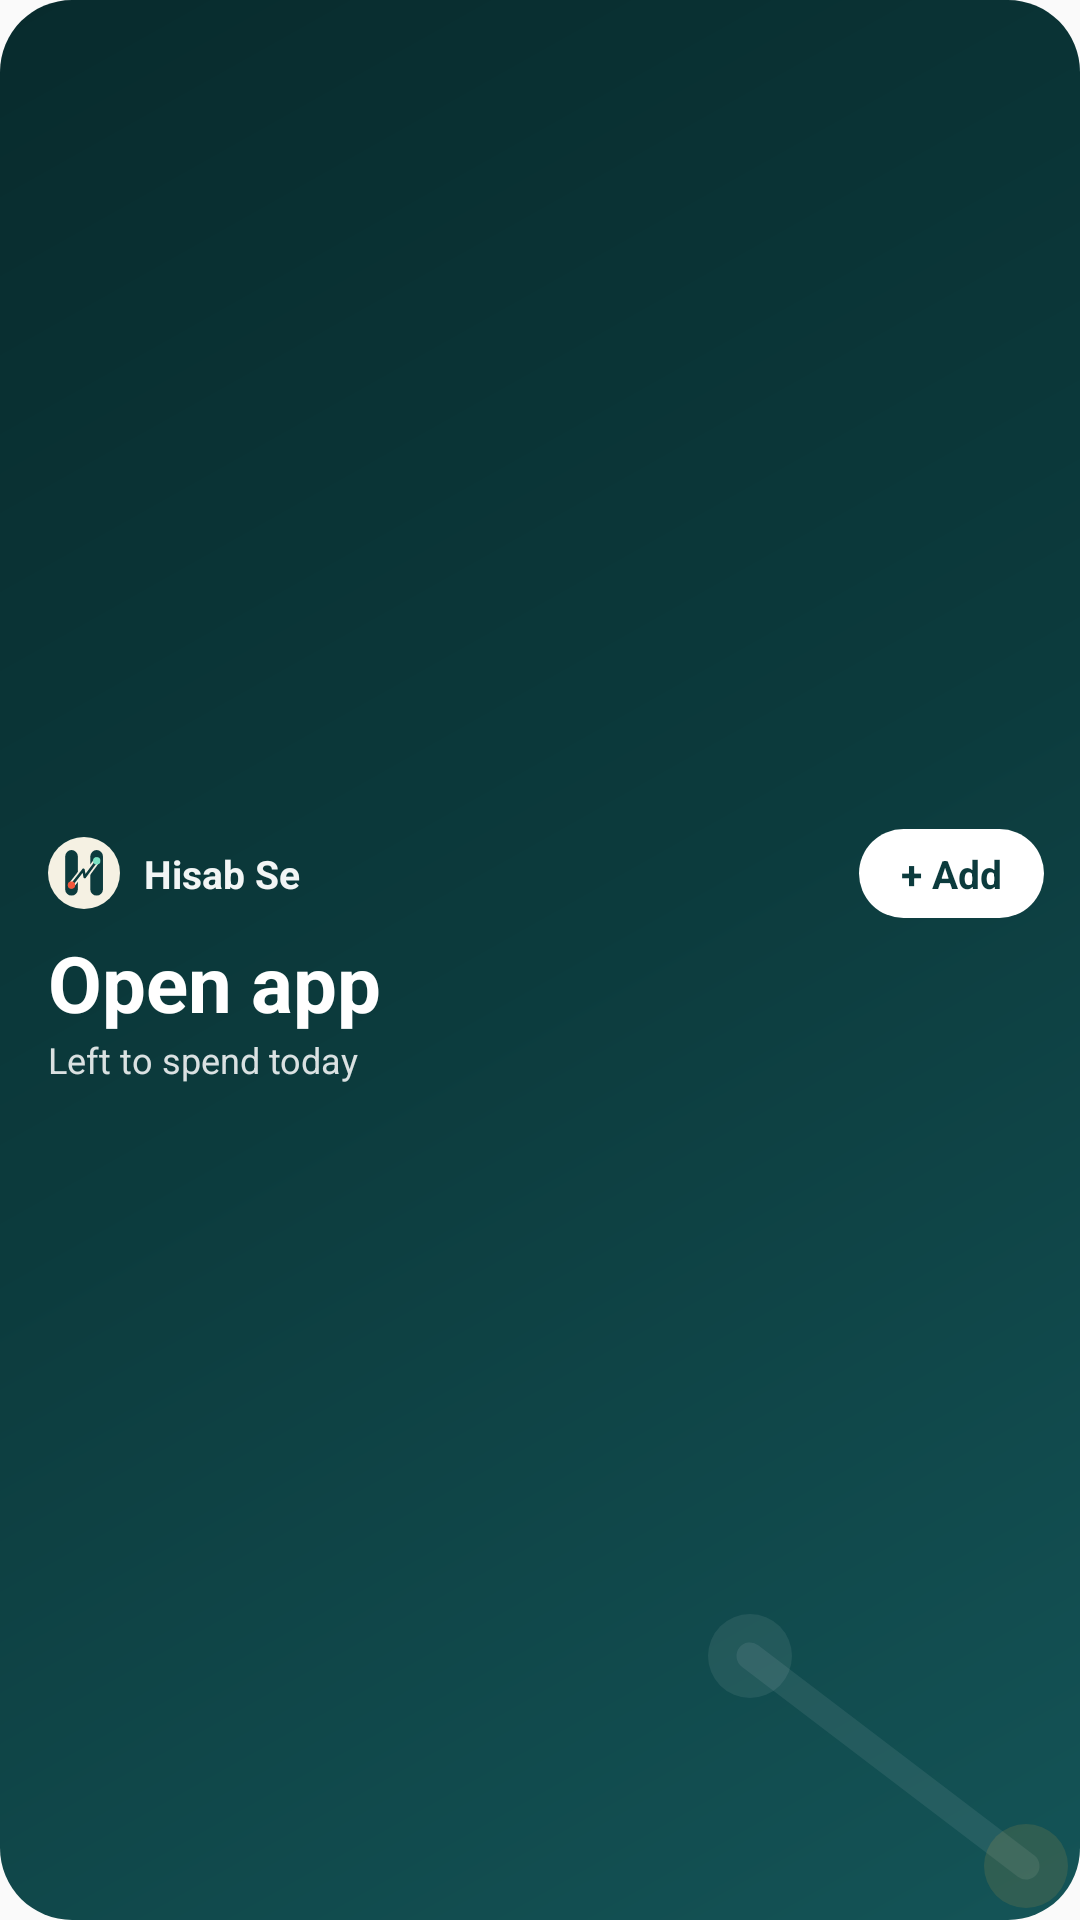

Screen size 1080 x 1920. Icon name, then its center in pixels as (x=x, y=y):
widget art: (x=908, y=1781)
